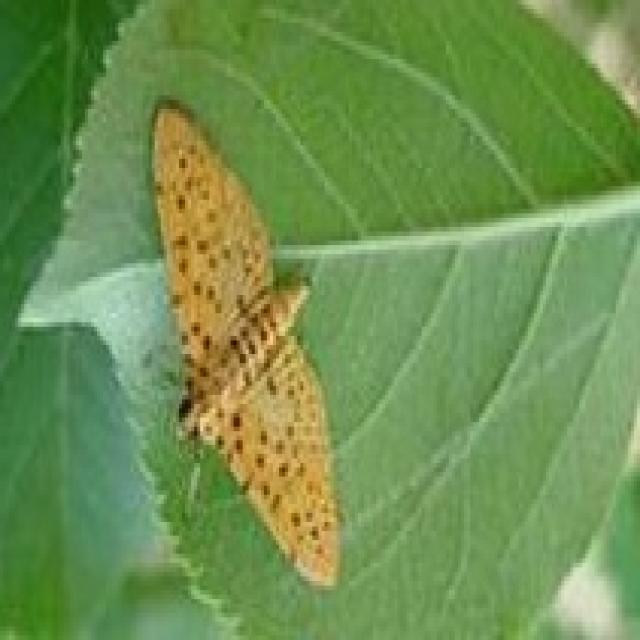peach borer: (125, 90, 350, 594)
